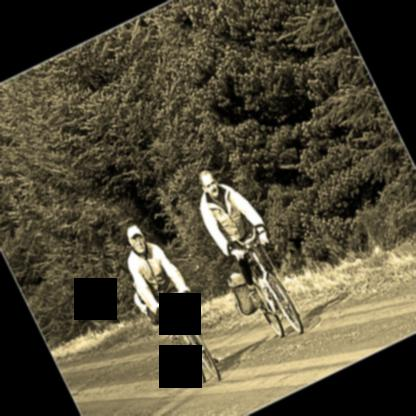backpack: (134, 291, 163, 326)
handbag: (229, 271, 258, 314), (143, 306, 165, 329)
